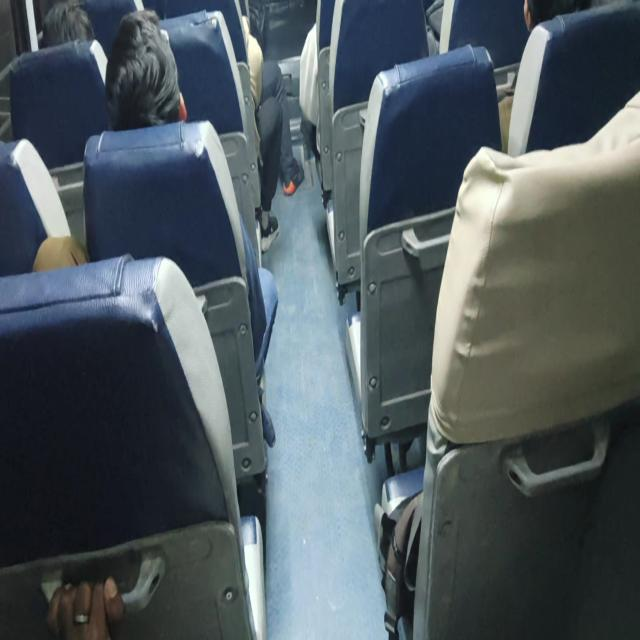person: (110, 25, 189, 121), (44, 0, 92, 43)
